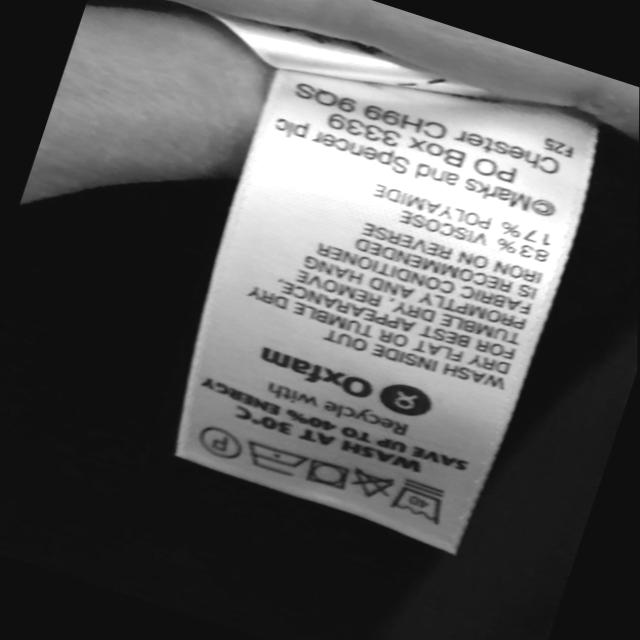40C: (394, 477, 451, 523)
DN_bleach: (353, 469, 396, 502)
dry_clean_any_solvent_except_trichloroethylene: (196, 427, 247, 459)
iron_low: (246, 442, 306, 476)
tumble_dry_normal: (306, 458, 352, 491)
